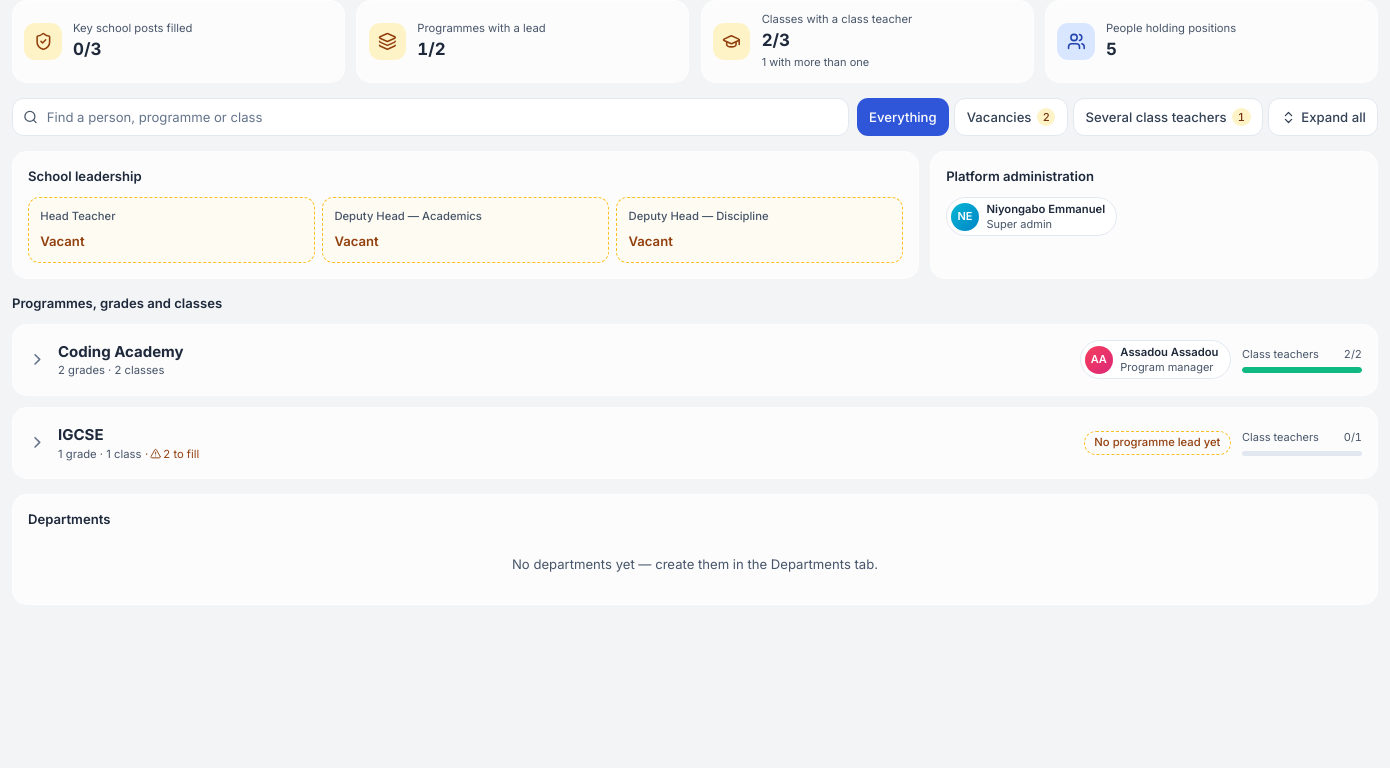
Test: Structure tab › shows only vacancies, and only classes with several class teachers
The image size is (1390, 768).
Click the button "Vacancies 2".
click(1011, 117)  # box x1=954 y1=98 x2=1068 y2=136
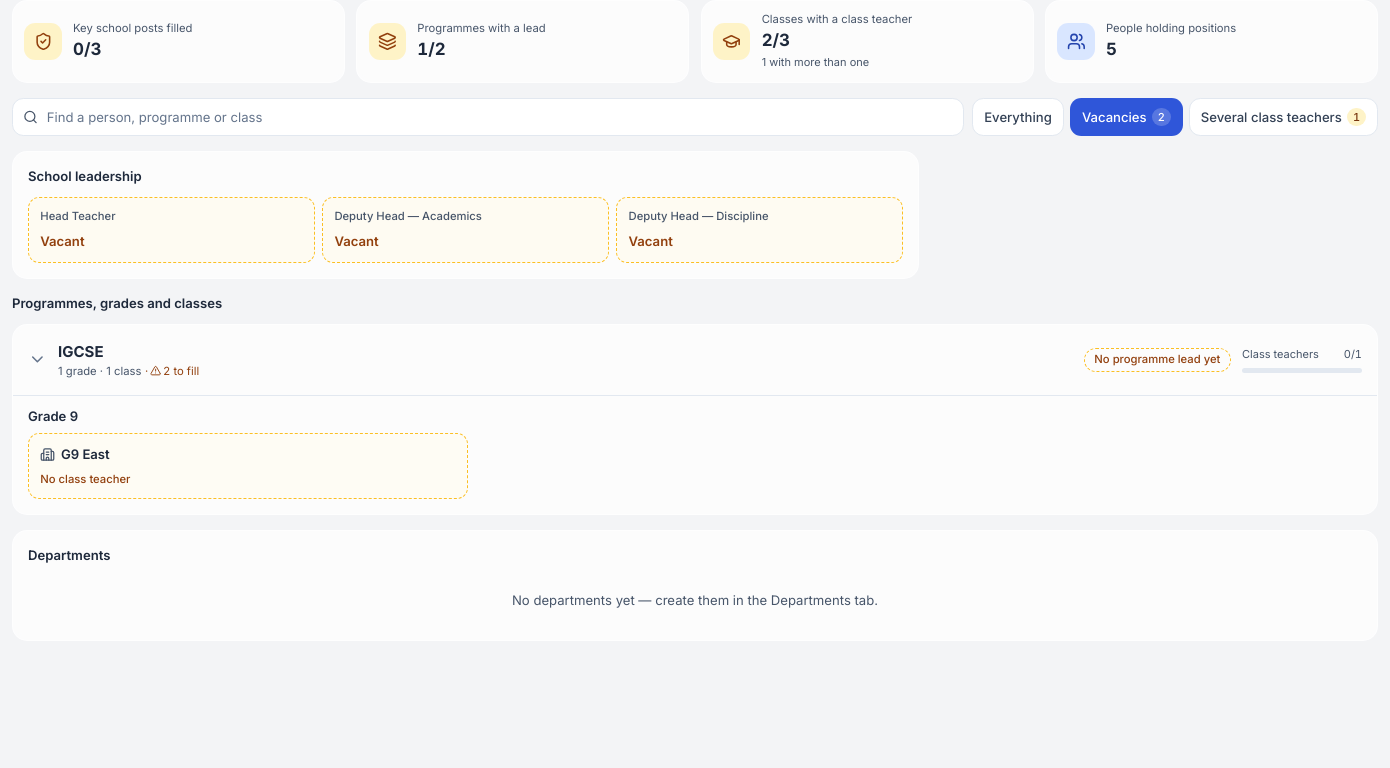
Expected: the text "G9 East" is shown, x1=40 y1=445 x2=110 y2=464
Click the button "Several class teachers 1".
click(1283, 117)  # box x1=1188 y1=98 x2=1378 y2=136
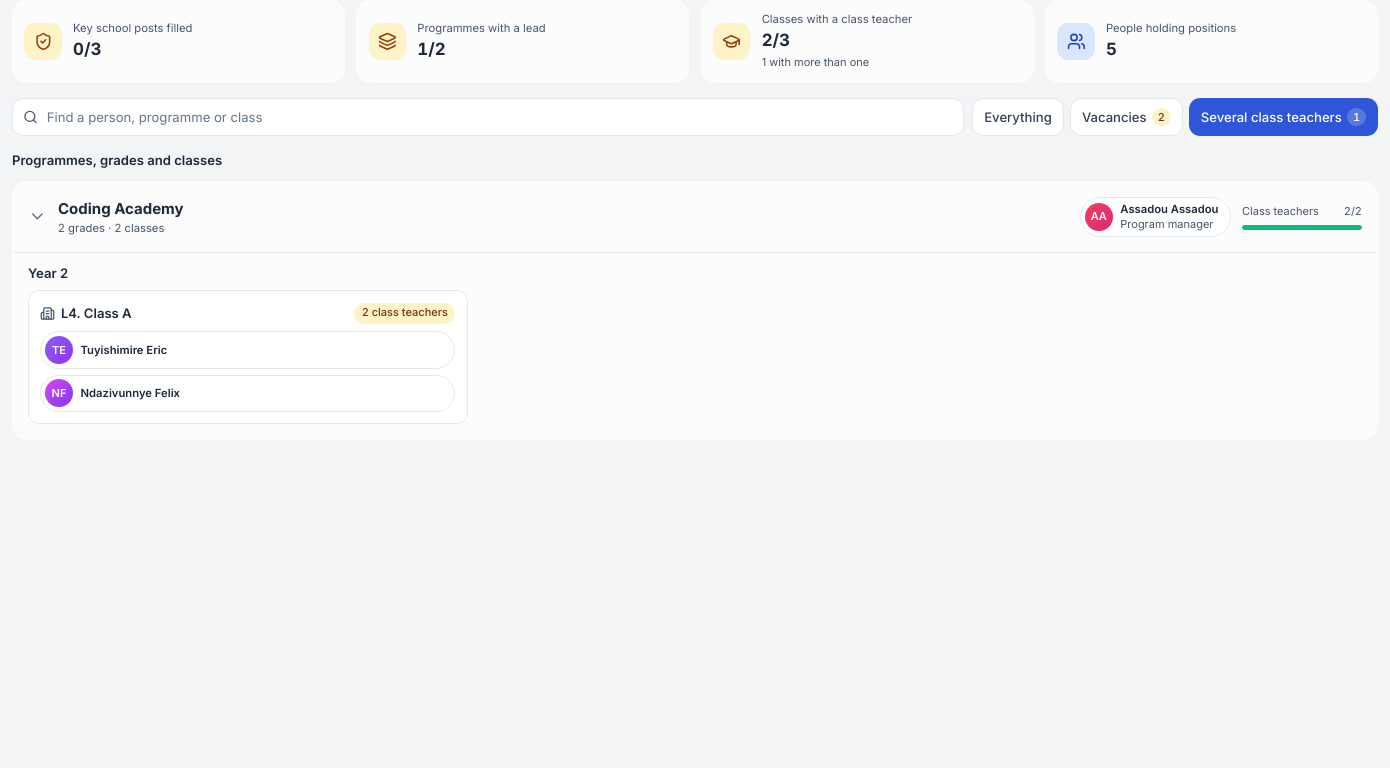
Expected: the text "2 class teachers" is shown, x1=354 y1=303 x2=455 y2=324
Expected: the text "G9 East" is gone
